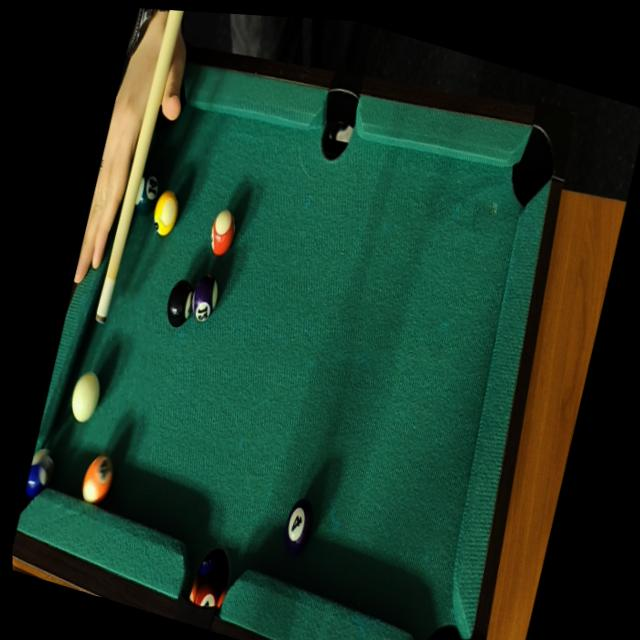cue ball: (61, 358, 110, 431)
other: (275, 489, 324, 562), (184, 263, 230, 336), (76, 445, 124, 514), (158, 267, 201, 338), (203, 198, 243, 262), (145, 184, 187, 243), (126, 161, 167, 221), (22, 441, 62, 500)
